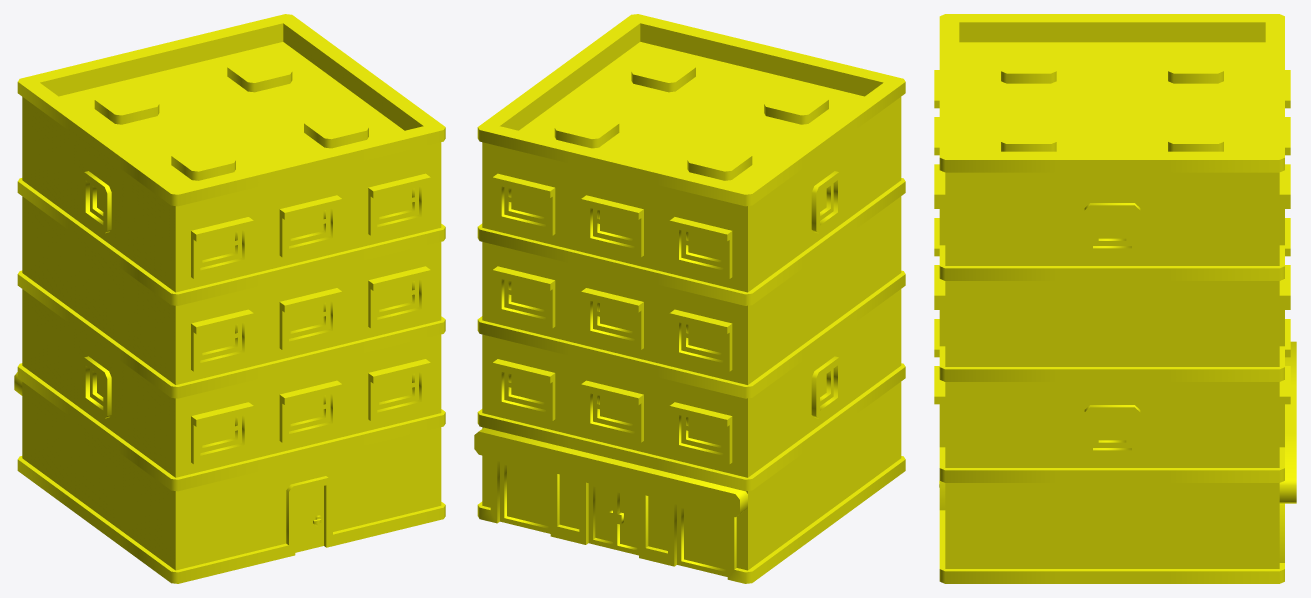
The model's file is entertainment-1.glb.
The picture shows the model from 3 angles, left to right: view 1: azimuth 30°, elevation 25°; view 2: azimuth 150°, elevation 25°; view 3: azimuth 270°, elevation 25°; orthographic projection. The views are drawn at different scales.
Visible parts, largest first — view 1: building-i; view 2: building-i; view 3: building-i.
Part boxes in pixels (left/top/right/bottom): building-i: left=14, top=14, right=445, bottom=583; building-i: left=474, top=14, right=905, bottom=583; building-i: left=934, top=14, right=1296, bottom=583.
Bounding box in the file's own units: 1.24 × 1.68 × 1.3.
1 material, 1 textured.
